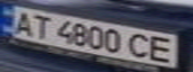0: (103, 27, 127, 55), (84, 24, 106, 52)
4: (51, 18, 75, 44)
8: (69, 20, 90, 47)
A: (6, 8, 39, 36)
C: (124, 30, 157, 60)
E: (145, 34, 181, 64)
T: (27, 12, 54, 39)
